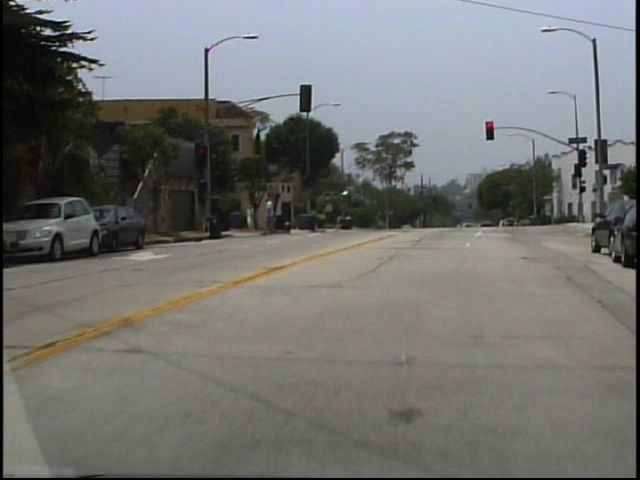person: (264, 198, 278, 237), (249, 203, 259, 234)
